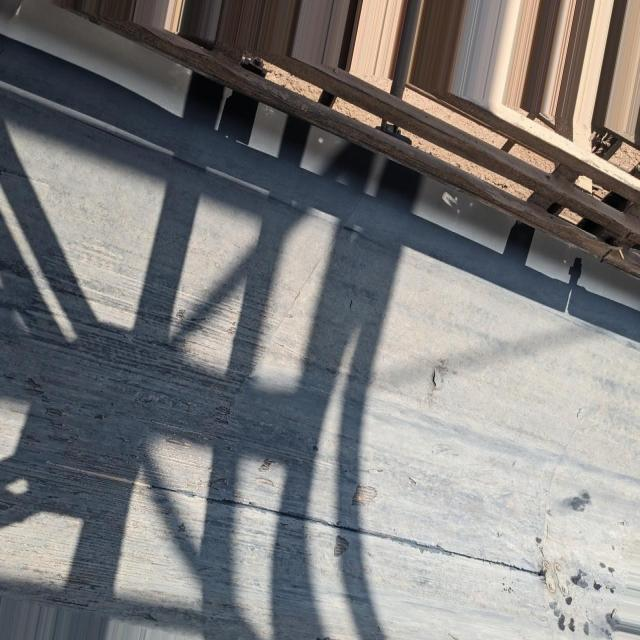Tear: (149, 477, 544, 581), (349, 480, 383, 513), (429, 369, 443, 396)
patch work: (539, 560, 573, 601)
